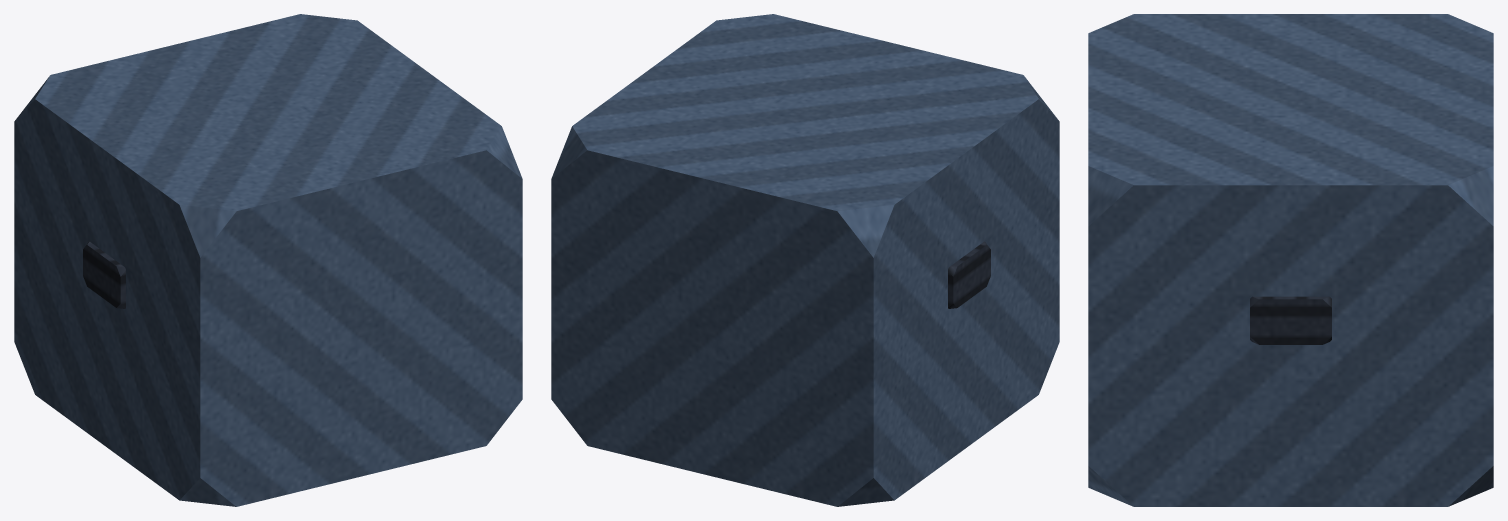
The model's file is eq_cargo_pod.glb.
3 renders of one model, left to right at view 1: azimuth 30°, elevation 25°; view 2: azimuth 150°, elevation 25°; view 3: azimuth 270°, elevation 25°, orthographic. The views are drawn at different scales.
Parts seen in each view (by area): view 1: eq_cargo_pod; view 2: eq_cargo_pod; view 3: eq_cargo_pod.
Part boxes in pixels (x1,y1,x2,y2): eq_cargo_pod: [14, 14, 522, 506]; eq_cargo_pod: [551, 14, 1059, 506]; eq_cargo_pod: [1088, 14, 1493, 506].
Size of the model in its own units: 1.84 by 1.56 by 1.78.
Materials: 1 (1 with a texture image).
